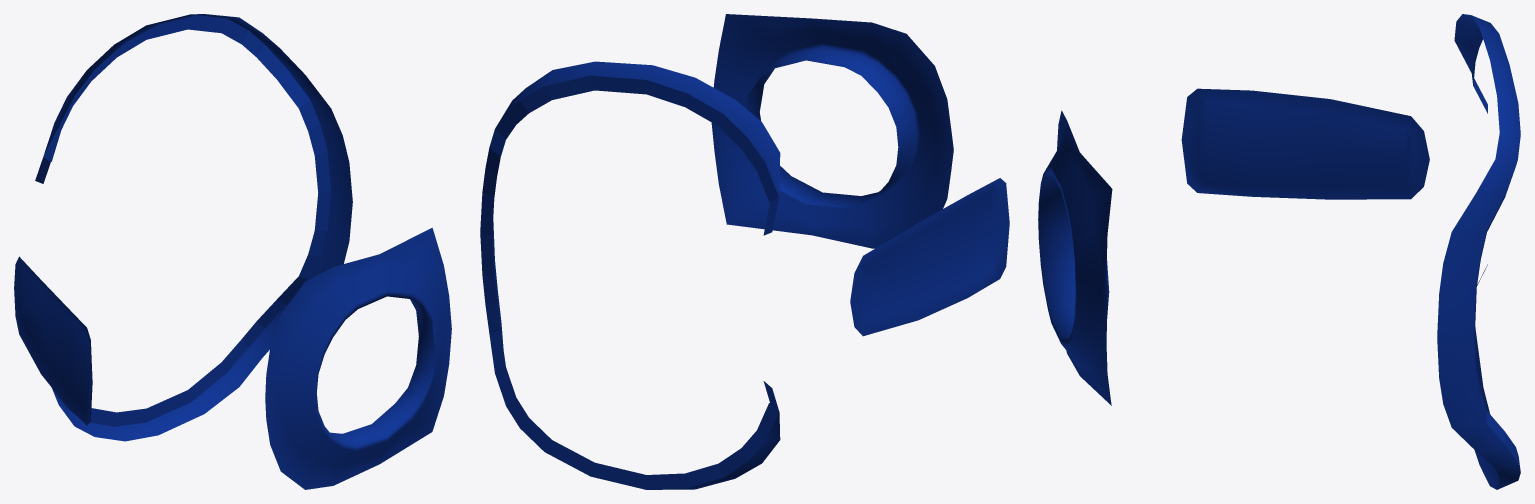
Rendered from Torso_shell.obj.
3 views of the same model, side by side, from view 1: azimuth 30°, elevation 25°; view 2: azimuth 150°, elevation 25°; view 3: azimuth 270°, elevation 25° (orthographic). The views are drawn at different scales.
Bounding box in the file's own units: 0.2709 × 0.2796 × 0.2797.
